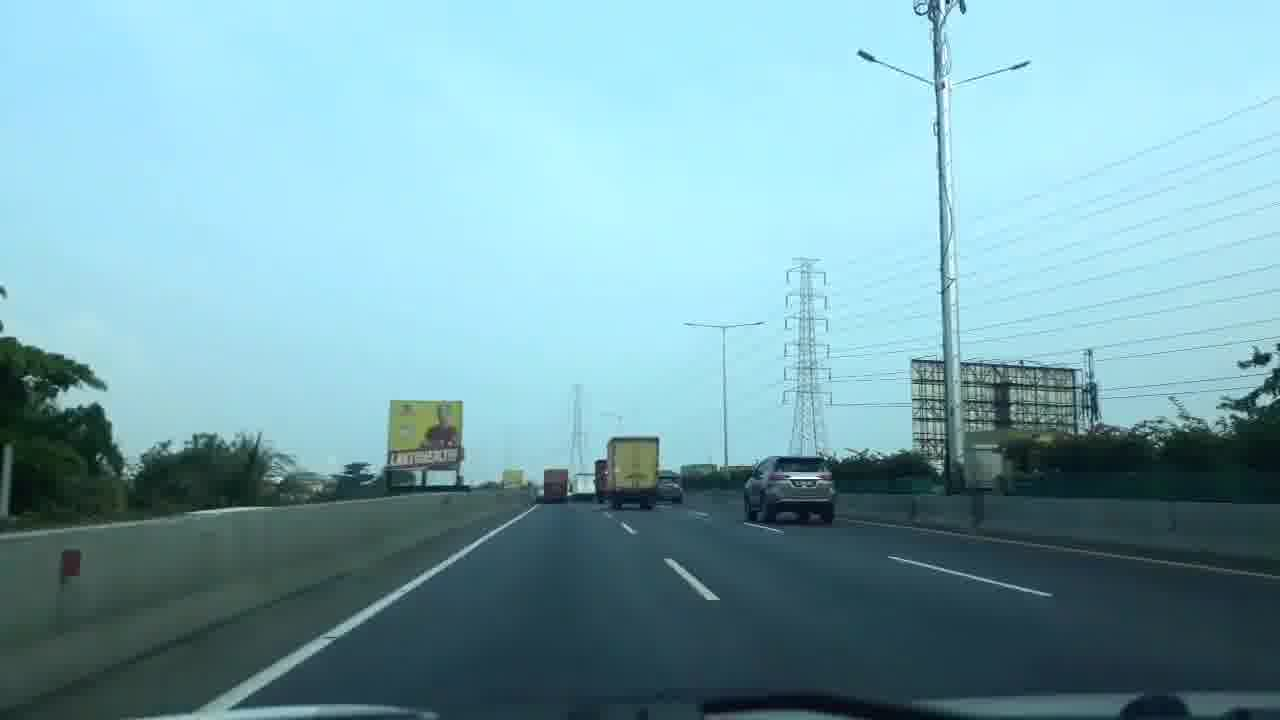plate_positive: (794, 480, 815, 487)
